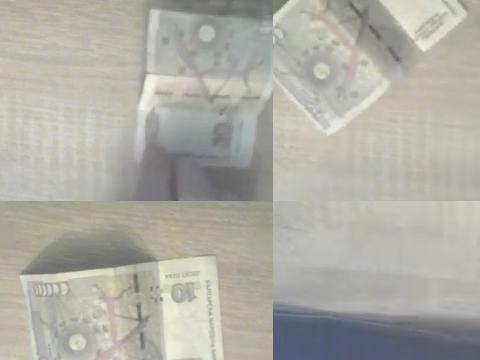10leva: (273, 0, 469, 135), (20, 254, 224, 360)
